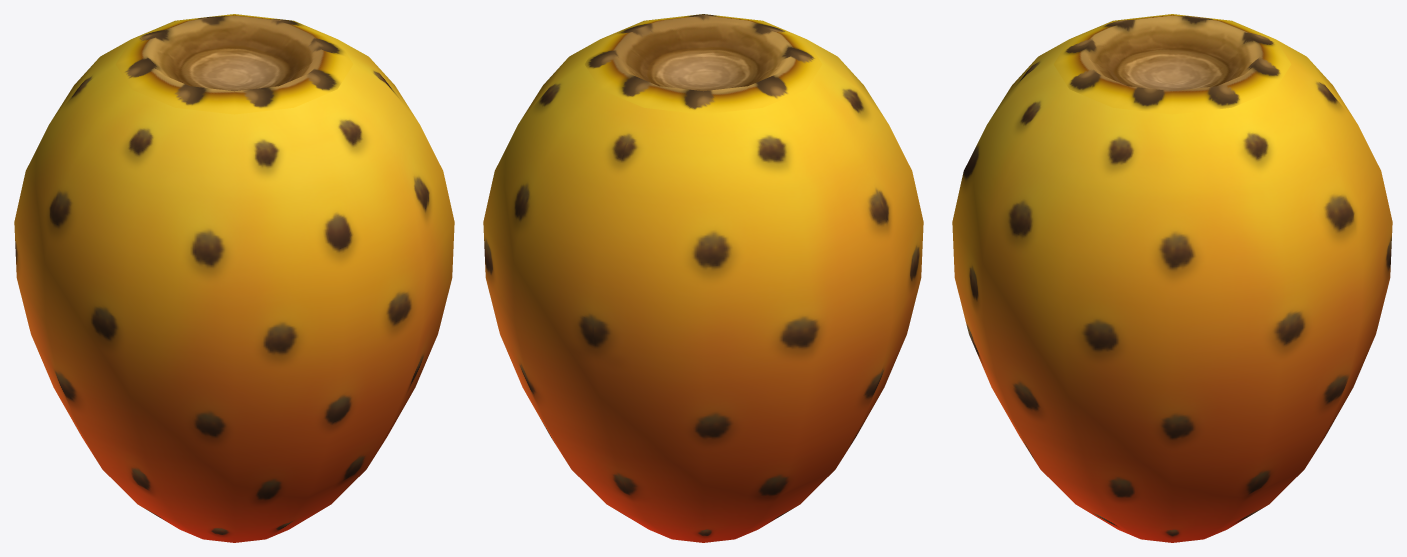
File: PricklyPear_Orange.fbx
3 renders of one model, left to right at view 1: azimuth 30°, elevation 25°; view 2: azimuth 150°, elevation 25°; view 3: azimuth 270°, elevation 25°, orthographic.
Visible parts, largest first — view 1: PricklyPear_Orange; view 2: PricklyPear_Orange; view 3: PricklyPear_Orange.
Boxes of the visible parts, bbox=[...] form: PricklyPear_Orange: bbox=[14, 14, 454, 542]; PricklyPear_Orange: bbox=[483, 14, 923, 542]; PricklyPear_Orange: bbox=[952, 14, 1392, 542].
Size of the model in its own units: 28.1 by 33.91 by 28.1.
